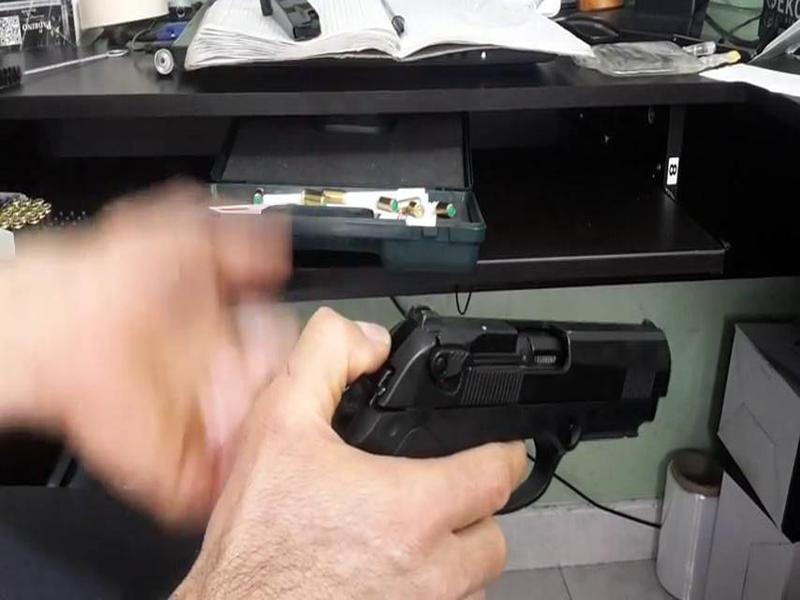Pistola: (322, 276, 675, 535)
